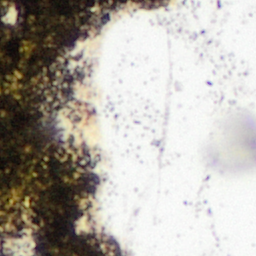cement_matrix: (0, 0, 161, 255), (4, 7, 17, 24)
gravel_crushed_stones: (53, 0, 255, 255), (3, 226, 34, 255), (5, 8, 16, 23)
